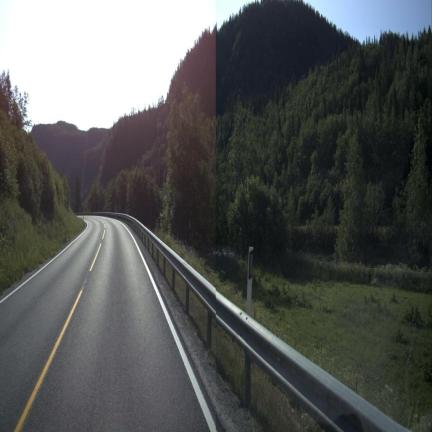Road: (0, 217, 213, 430)
